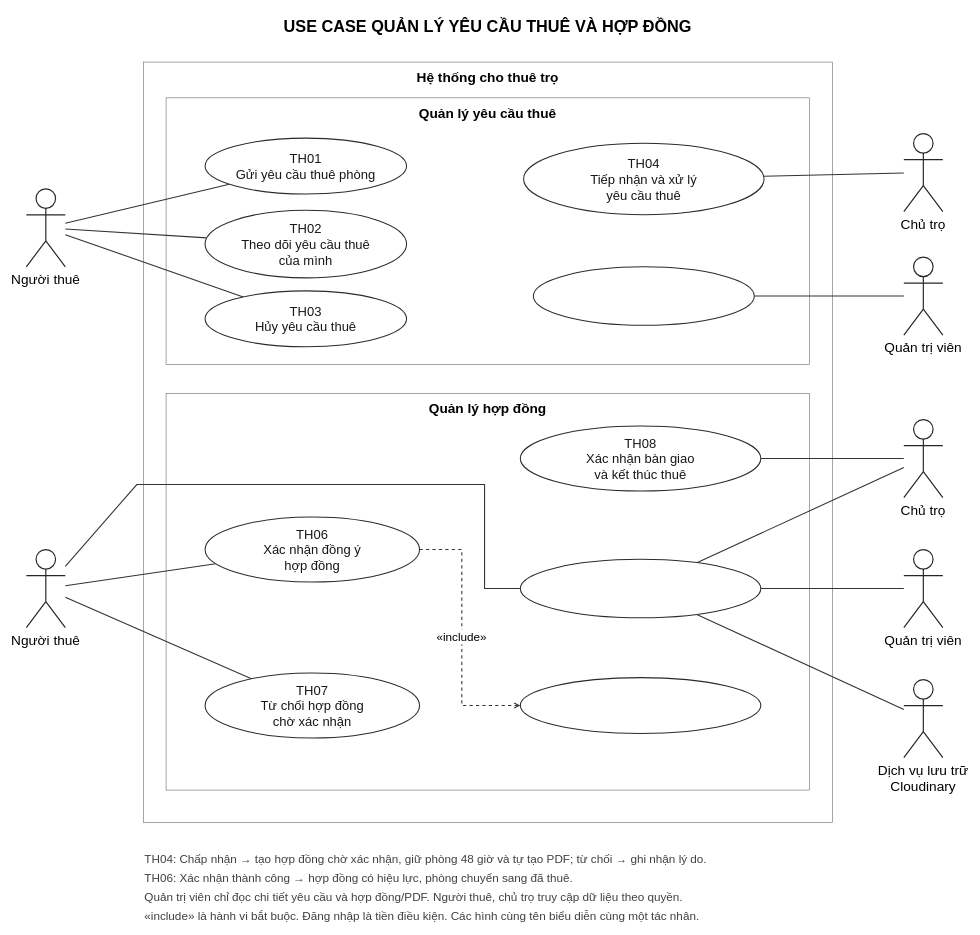
The diagram is 980 pixels wide and 935 high, and some of its shapes have lost their labels. The shapes that lost their labels are listed below. From the top down, each one's box as (x1, y1, x2, y2) in pixels, then its label:
(532, 266, 755, 326): Xem chi tiết yêu cầu thuê
(519, 558, 761, 618): TH05 Xem và tải hợp đồng PDF
(519, 677, 761, 734): Kiểm tra phiên bản / toàn vẹn PDF
